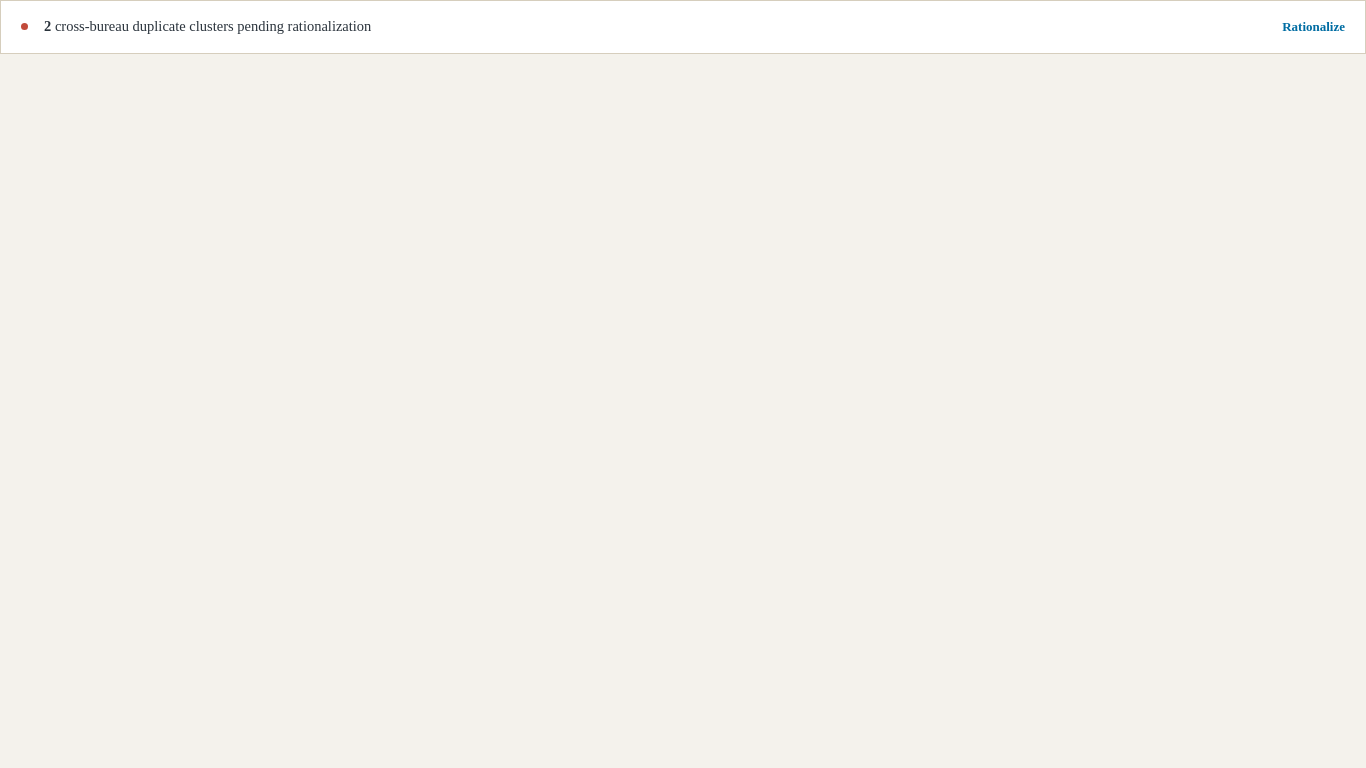
it: ActionCenter › opens a dialog listing the item's drilldown entries
The image size is (1366, 768).
Click the button "Rationalize".
click(1314, 27)  # box [1282,17,1345,37]
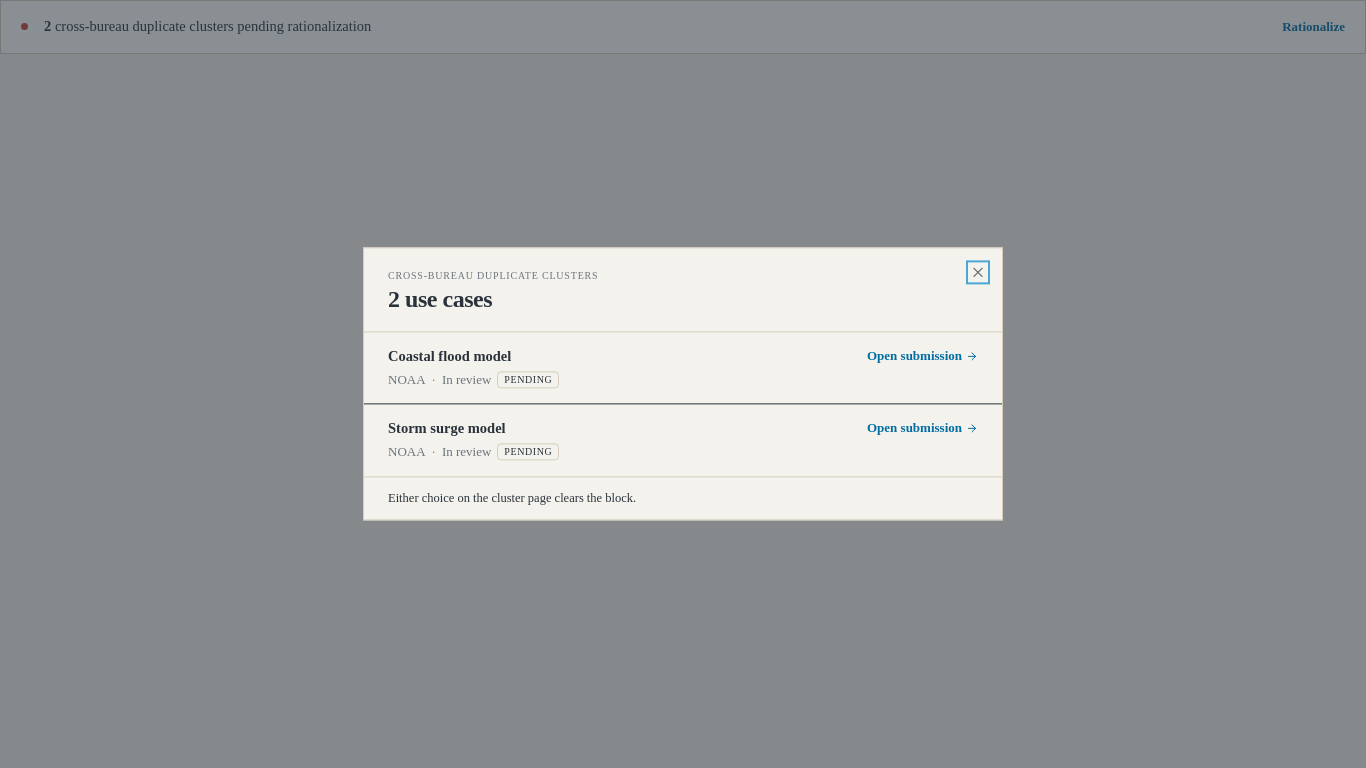
Check: the dialog is shown, box [363,247,1003,521]
Check: the dialog shows "Cross-bureau duplicate clusters", box [388,270,598,281]
Check: the dialog shows "Coastal flood model", box [388,348,511,364]
